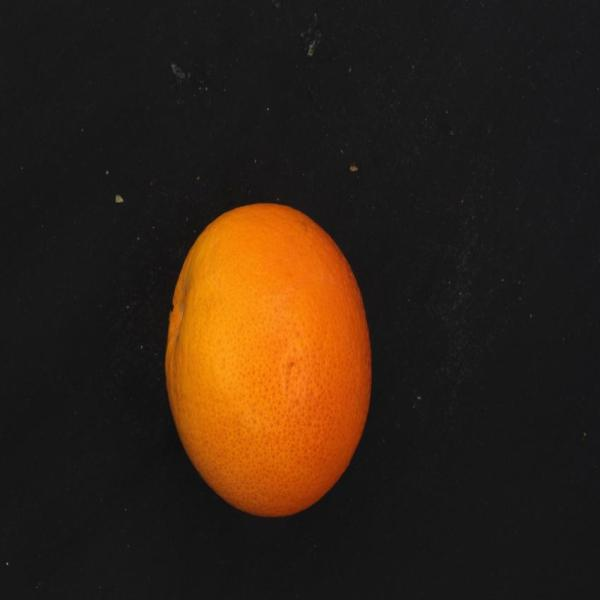Sana: (149, 191, 387, 524)
